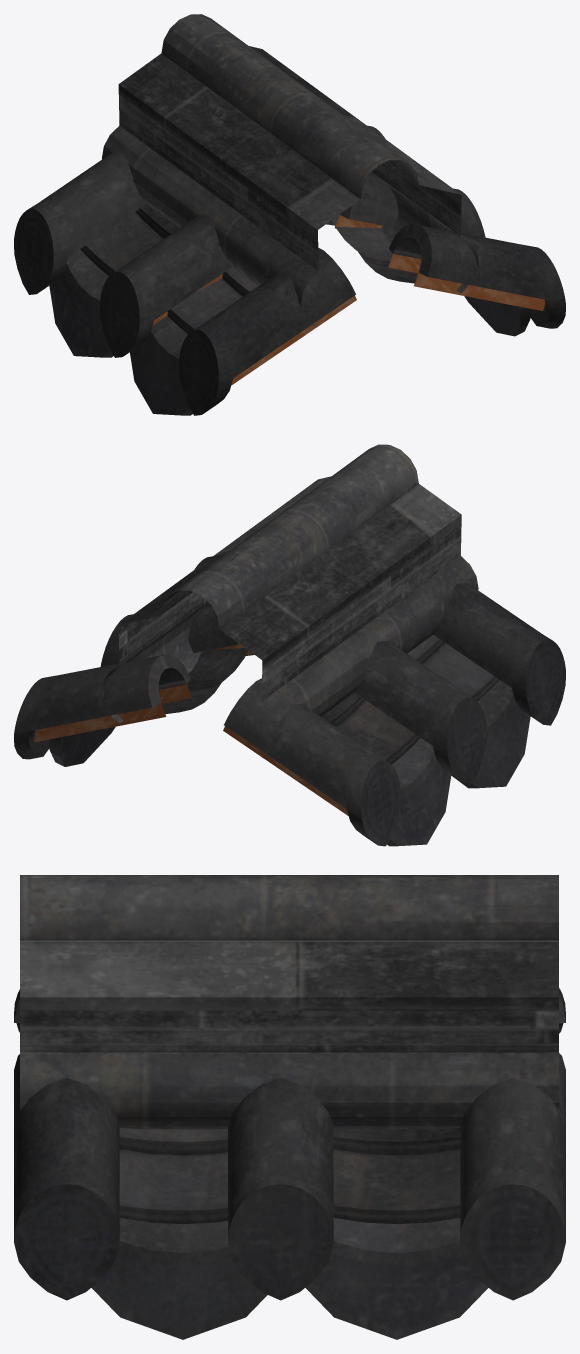
Rendered from SM_HG_Roof01A.fbx.
3 views of the same model, one above another, from view 1: azimuth 30°, elevation 25°; view 2: azimuth 150°, elevation 25°; view 3: azimuth 270°, elevation 25° (orthographic). The views are drawn at different scales.
Parts seen in each view (by area): view 1: SM_HG_Roof01A; view 2: SM_HG_Roof01A; view 3: SM_HG_Roof01A.
Boxes of the visible parts, x1,y1,x2,y2 form: SM_HG_Roof01A: [14, 14, 565, 415]; SM_HG_Roof01A: [14, 444, 565, 846]; SM_HG_Roof01A: [14, 875, 565, 1339].
Size of the model in its own units: 58.01 by 57.5 by 39.95.
